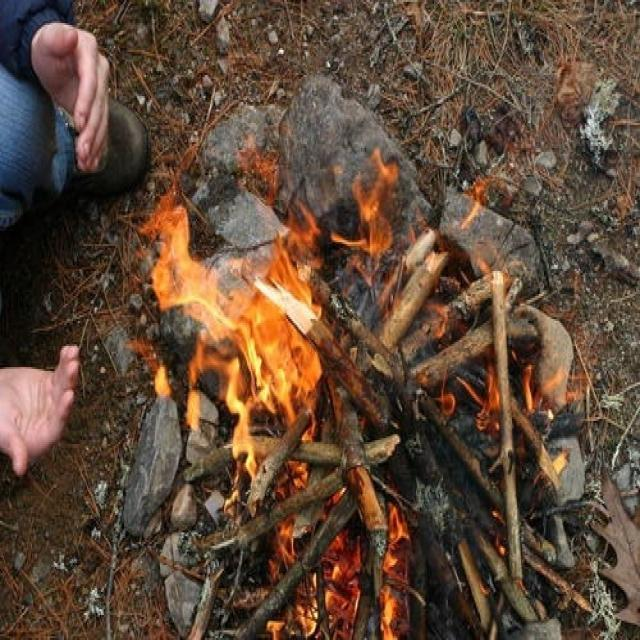Fire: (128, 140, 596, 640)
